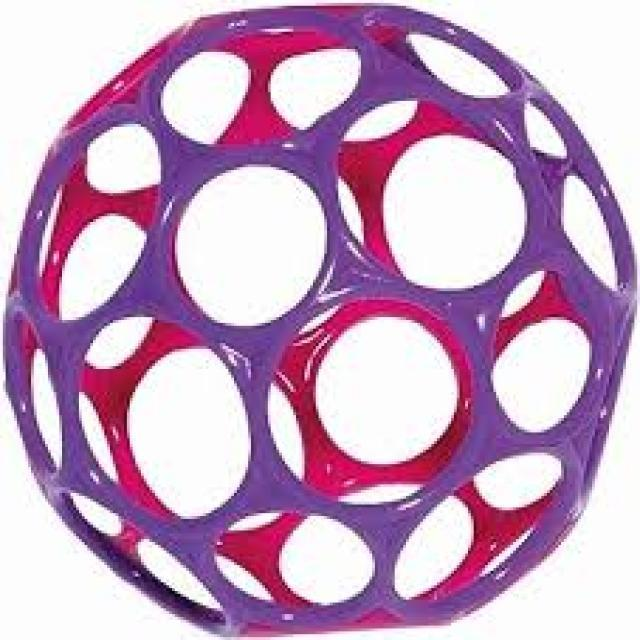hard-toy: (6, 6, 636, 634)
